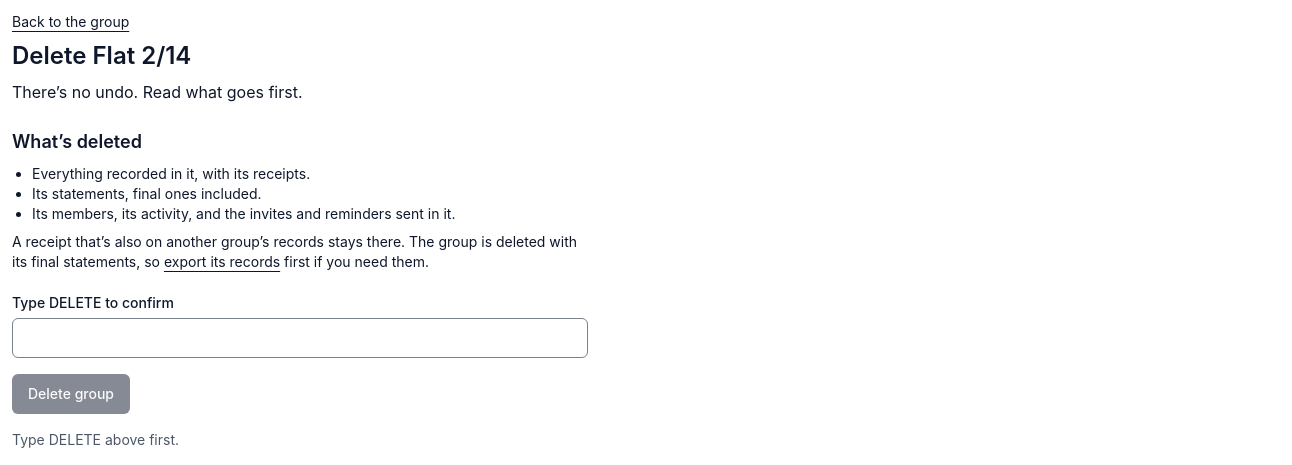
Test: DeleteGroupPage › says the rest goes within the hour when the hourly job finishes it
Type "DELETE" into the field labelled "Type DELETE to confirm" at point(300, 338), box [12,318,588,358]
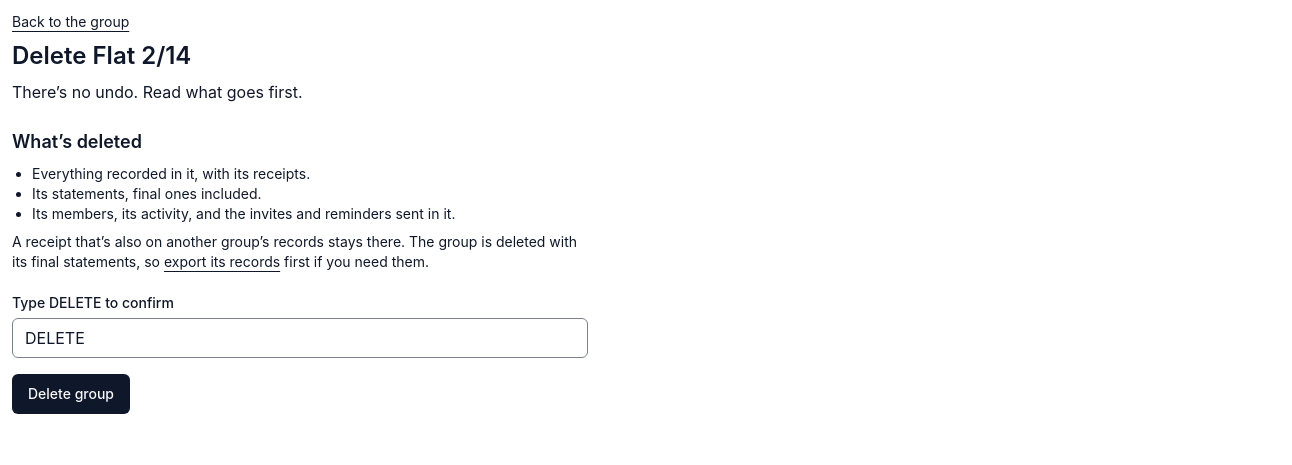
Click the button "Delete group" at point(71, 394), box [12,374,130,414]
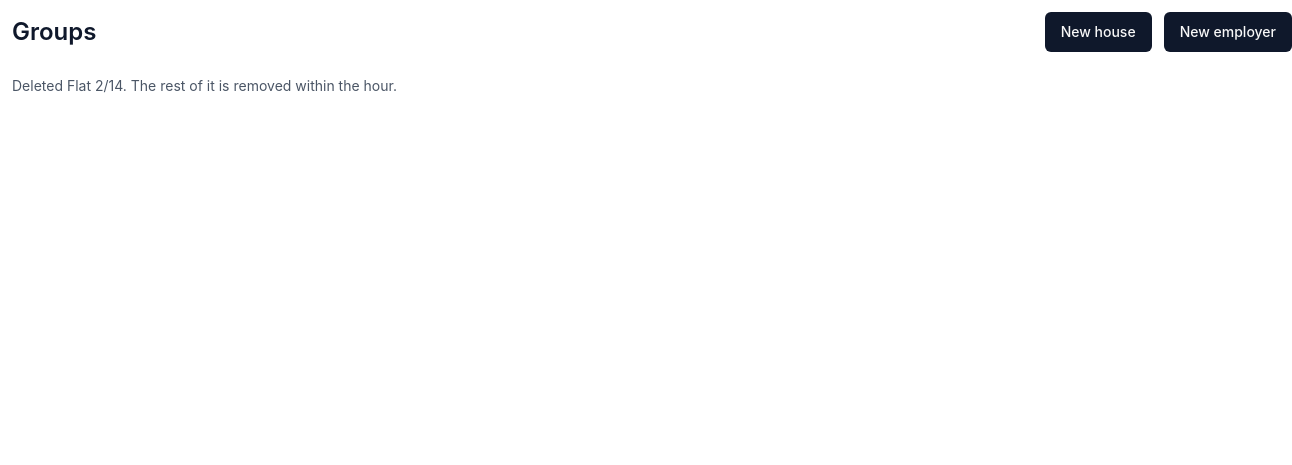
expect the text "Deleted Flat 2/14. The rest of it is removed within the hour." is shown: met, box [12,77,397,94]
